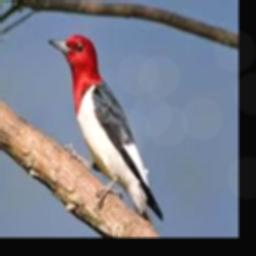Woodpecker: (48, 33, 163, 229)
